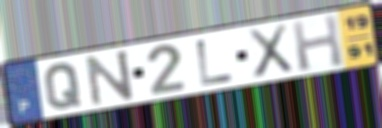2: (147, 41, 191, 98)
H: (289, 12, 347, 73)
L: (194, 37, 237, 88)
N: (83, 48, 137, 108)
Q: (42, 61, 84, 111)
X: (245, 21, 296, 81)
